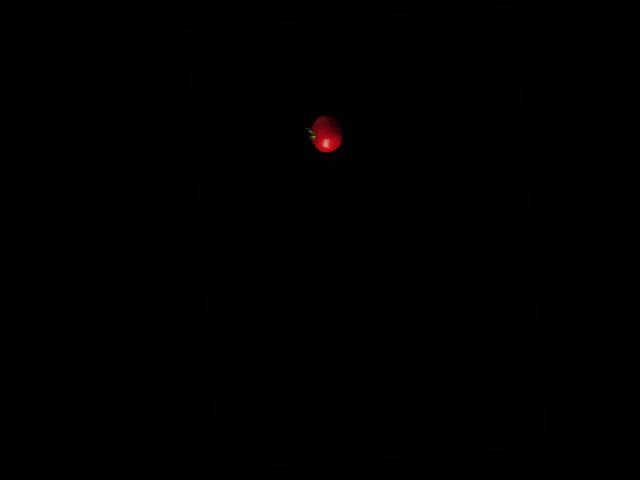tomato: (310, 114, 343, 153)
